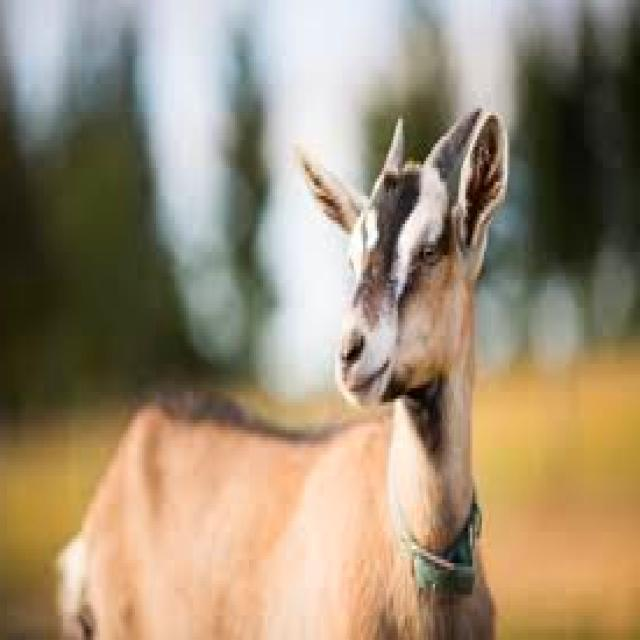goat: (61, 108, 507, 637)
